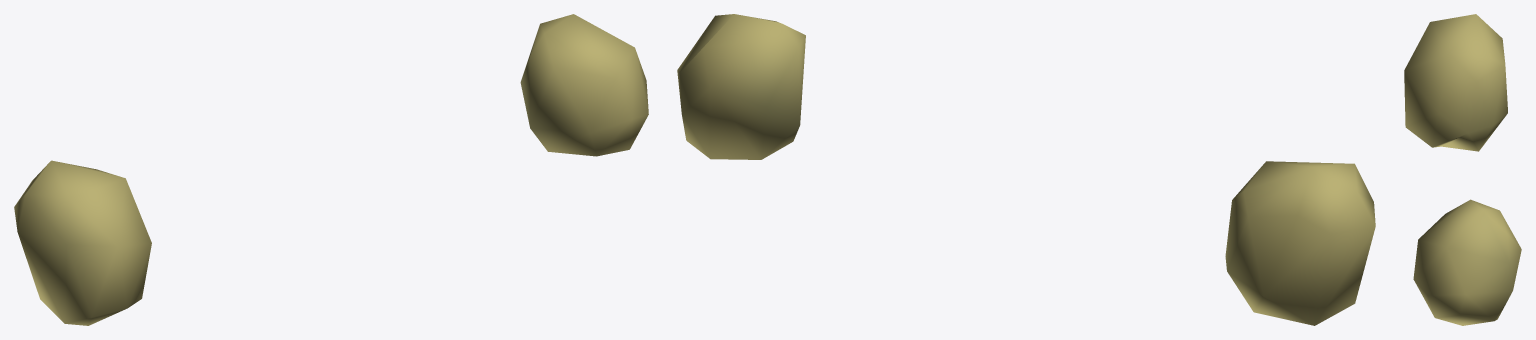
3 renders of one model, left to right at view 1: azimuth 30°, elevation 25°; view 2: azimuth 150°, elevation 25°; view 3: azimuth 270°, elevation 25°, orthographic. The views are drawn at different scales.
Parts seen in each view (by area): view 1: LOD 3_5261851821754165480_820756dedd5b3434c8e6bed8ae6a193b; view 2: LOD 3_5261851821754165480_820756dedd5b3434c8e6bed8ae6a193b; view 3: LOD 3_5261851821754165480_820756dedd5b3434c8e6bed8ae6a193b.
Boxes of the visible parts, left/top/right/bottom form: LOD 3_5261851821754165480_820756dedd5b3434c8e6bed8ae6a193b: left=14, top=14, right=648, bottom=325; LOD 3_5261851821754165480_820756dedd5b3434c8e6bed8ae6a193b: left=677, top=14, right=1375, bottom=325; LOD 3_5261851821754165480_820756dedd5b3434c8e6bed8ae6a193b: left=1404, top=14, right=1521, bottom=325.
Bounding box in the file's own units: 1.17 × 0.2822 × 0.2326.
